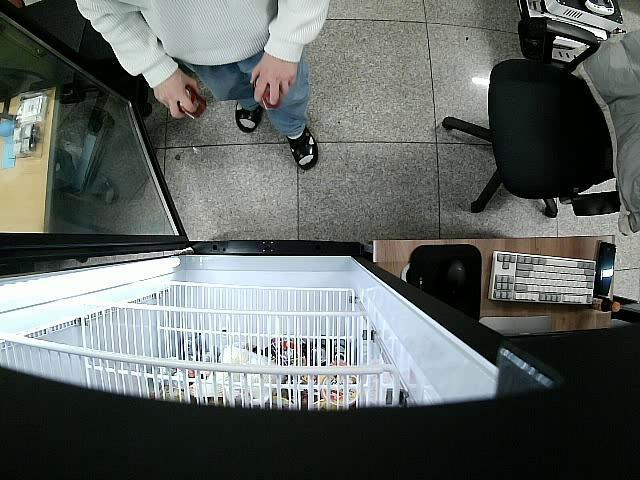11_cocaColaZero: (253, 76, 282, 112), (178, 85, 207, 120)
